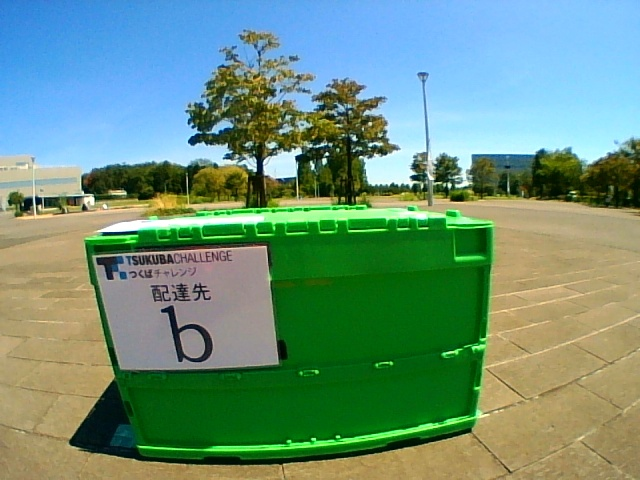green_box: (84, 206, 494, 459)
tag_b: (121, 255, 268, 365)
